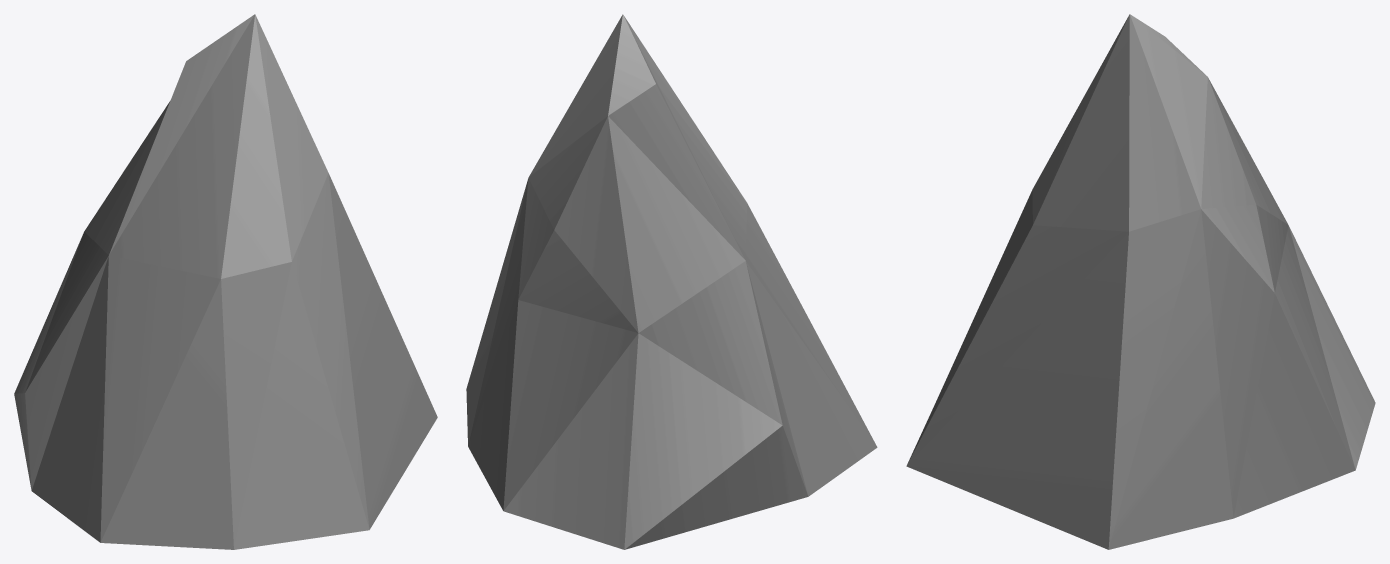
Rendered from GL-Rock-02-LOD3.fbx.
3 renders of one model, left to right at view 1: azimuth 30°, elevation 25°; view 2: azimuth 150°, elevation 25°; view 3: azimuth 270°, elevation 25°, orthographic. The views are drawn at different scales.
Visible parts, largest first — view 1: GL_Rock_02; view 2: GL_Rock_02; view 3: GL_Rock_02.
Boxes of the visible parts, box(x1,y1,x2,y2) form: GL_Rock_02: box(14, 14, 437, 549); GL_Rock_02: box(466, 14, 877, 549); GL_Rock_02: box(906, 14, 1375, 549).
Bounding box in the file's own units: 3.12 × 3.42 × 3.23.
